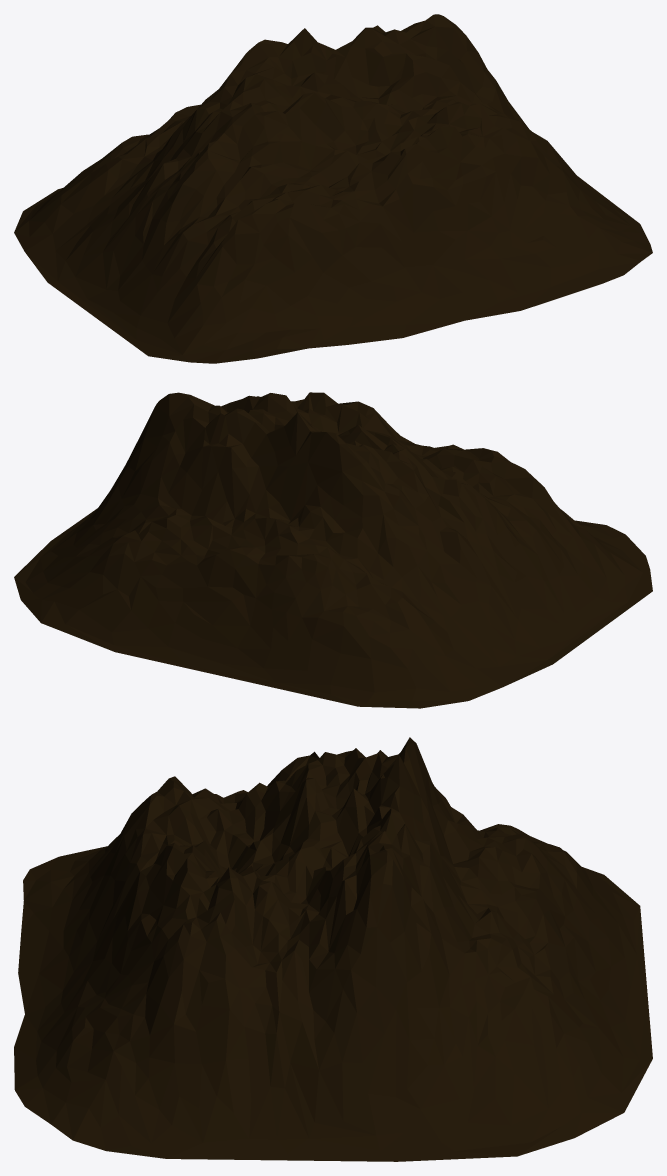
The model's file is Mountain_1.fbx.
The picture shows the model from 3 angles, top to bottom: view 1: azimuth 30°, elevation 25°; view 2: azimuth 150°, elevation 25°; view 3: azimuth 270°, elevation 25°; orthographic projection. The views are drawn at different scales.
Parts seen in each view (by area): view 1: Mountain_1; view 2: Mountain_1; view 3: Mountain_1.
Part boxes in pixels (x1,y1,x2,y2): Mountain_1: (14,14,652,363); Mountain_1: (14,392,652,708); Mountain_1: (14,737,652,1161).
Bounding box in the file's own units: 6324 × 2285 × 5300.
